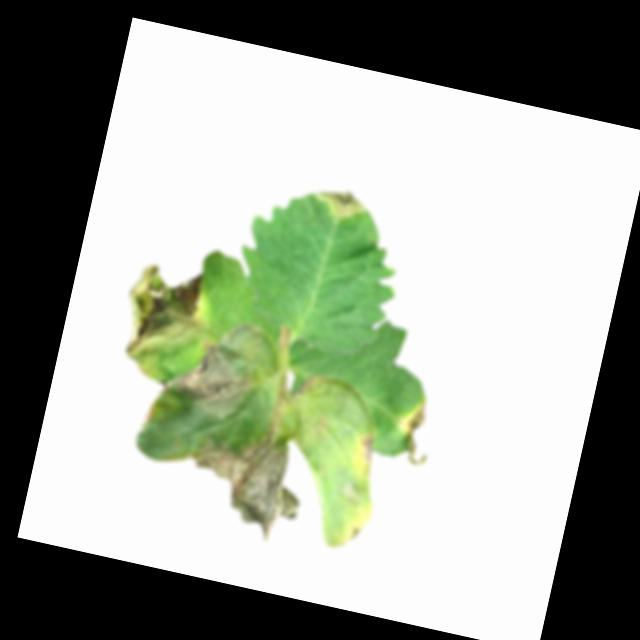Late_blight: (188, 422, 311, 548), (107, 259, 211, 383), (159, 310, 267, 422), (393, 399, 440, 471), (311, 182, 370, 223), (133, 387, 161, 430), (353, 428, 381, 469), (292, 371, 319, 399)
